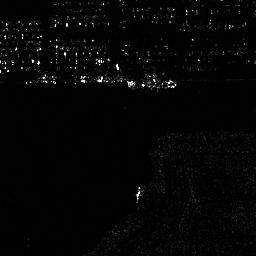ship: (128, 78, 177, 91)
